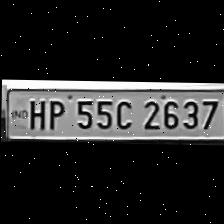2: (136, 97, 160, 130)
3: (180, 97, 198, 130)
5: (69, 96, 93, 130), (92, 96, 112, 130)
6: (160, 96, 178, 130)
7: (198, 97, 218, 130)
C: (110, 96, 134, 130)
H: (23, 96, 45, 129)
P: (42, 96, 64, 130)
